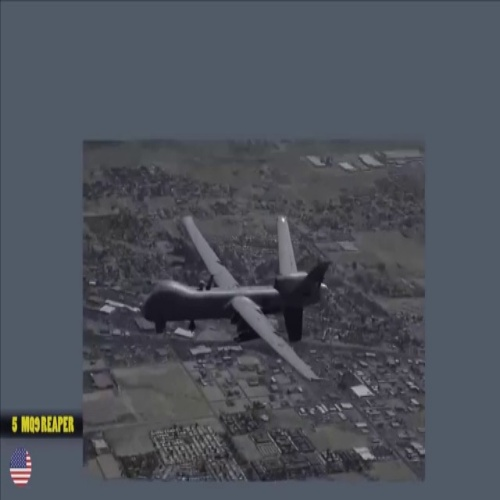uav855: (134, 207, 331, 386)
